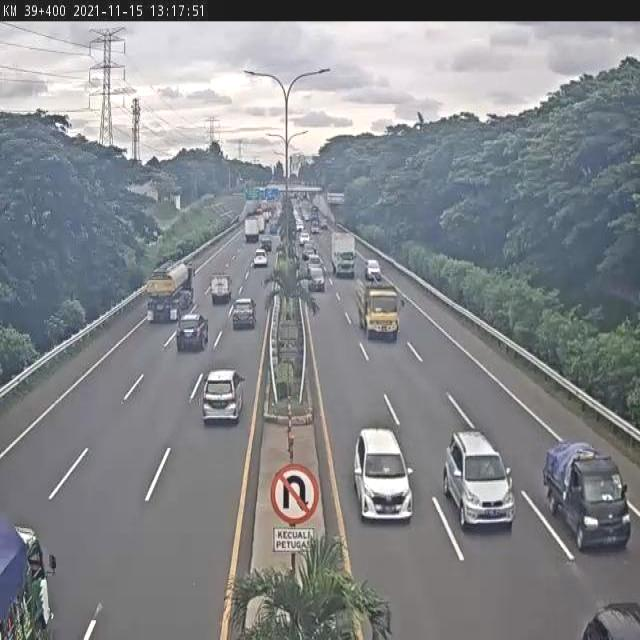Car: (443, 429, 517, 530), (352, 424, 412, 522), (201, 366, 246, 424), (176, 312, 208, 352), (230, 297, 258, 330), (306, 260, 326, 292), (365, 259, 381, 282), (253, 248, 268, 268), (260, 234, 272, 251)
Truck: (542, 442, 630, 550), (144, 260, 197, 322), (355, 280, 406, 344), (328, 229, 356, 278), (208, 272, 232, 306), (243, 214, 260, 243)
